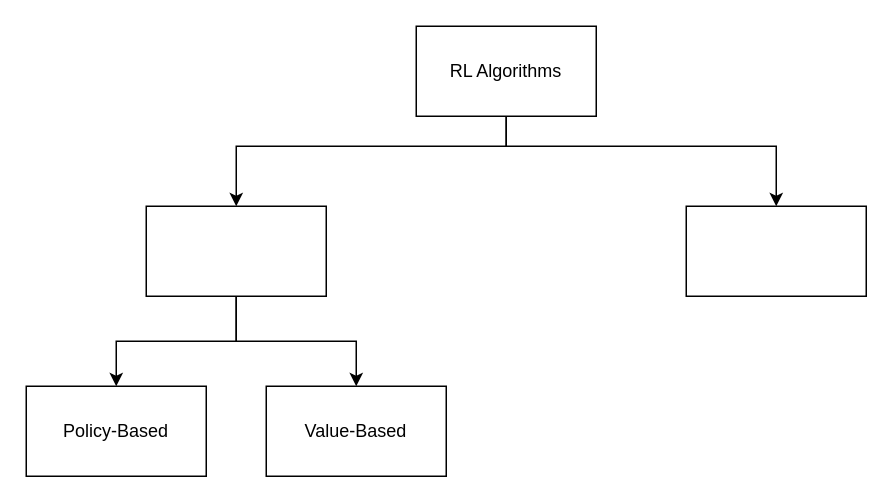
Image size: 893x503. Some labels were removed from this diagram. Each missing label, with the centre of its shape:
"Model-Based" goes at pixel 775 250.
"Model-Free" goes at pixel 235 250.
